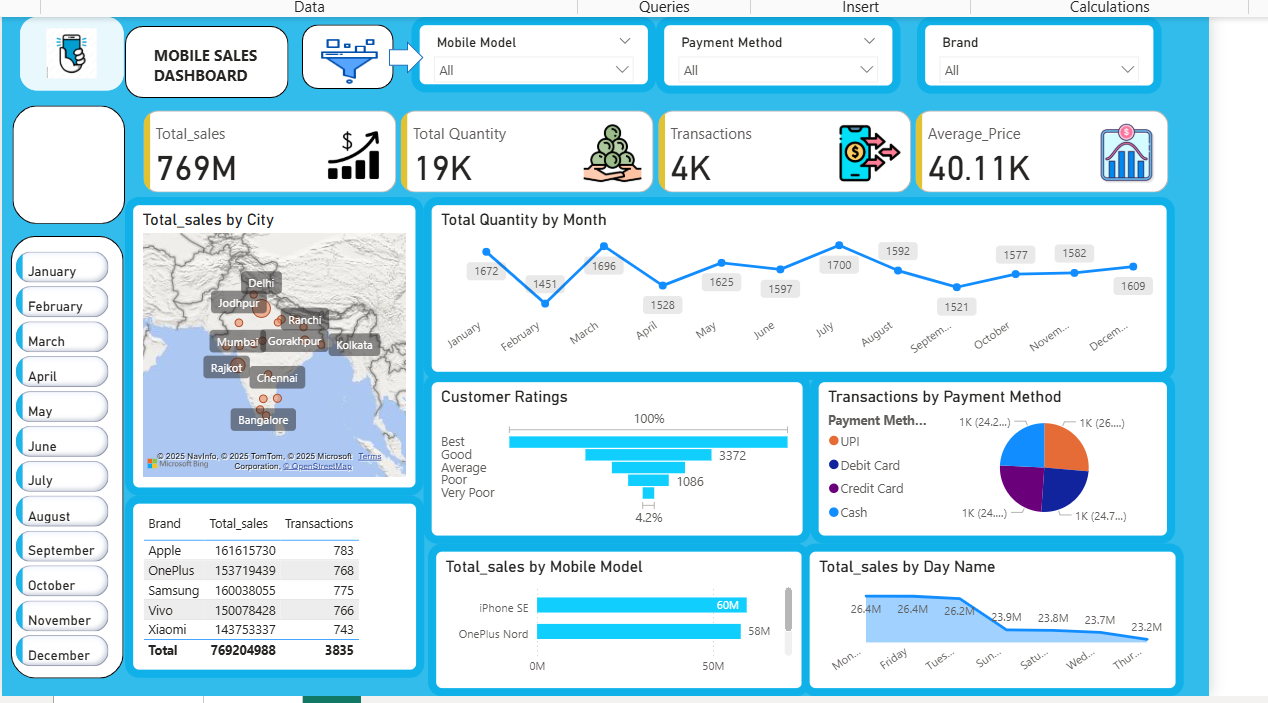

The dashboard page shown, as its layout file describes it:
{"tool":"powerbi","page":{"name":"Dashboard","canvas":[1280,720],"ordinal":0},"visuals":[{"type":"image","box":[19.1,0,109.8,77.9],"z":0},{"type":"shape","box":[11.1,93.8,119.3,125.7],"z":1000},{"type":"shape","box":[9.5,232.2,119.3,469.2],"z":2000},{"type":"advancedSlicerVisual","fields":{"Values":["Custom_calender.Date.Variation.Date Hierarchy.Month"]},"box":[9.5,243.4,108.2,458.1],"z":3000},{"type":"cardVisual","fields":{"Data":["Sales_data.Total_sales","Sales_data.Total Quantity","Sales_data.Transactions","Sales_data.Average_Price"]},"box":[144.7,93.8,1099.1,97],"z":4000},{"type":"slicer","fields":{"Values":["Sales_data.Mobile Model"]},"box":[434.2,0,259.3,80],"z":5000},{"type":"slicer","fields":{"Values":["Sales_data.Payment Method"]},"box":[693.5,0,259.3,81.1],"z":6000},{"type":"slicer","fields":{"Values":["Sales_data.Brand"]},"box":[970.3,0,259.3,81.1],"z":7000},{"type":"shape","box":[318.1,8,97,68.4],"z":8000},{"type":"image","box":[326.1,17.5,84.3,58.9],"z":9000},{"type":"shape","box":[410.4,25.4,36.6,35],"z":10000},{"type":"shape","box":[130.4,9.5,173.4,76.3],"z":11000},{"type":"textbox","box":[155.9,23.9,124.1,52.5],"z":12000},{"type":"map","fields":{"Category":["Sales_data.City"],"Size":["Sales_data.Total_sales"]},"box":[130.4,190.9,316.5,316.5],"z":13000},{"type":"lineChart","fields":{"Category":["Custom_calender.Date.Variation.Date Hierarchy.Month"],"Y":["Sales_data.Total Quantity"]},"box":[447,190.9,796.9,194.1],"z":14000},{"type":"funnel","title":"Customer Ratings","fields":{"Category":["Sales_data.Customer Rating Category"],"Y":["Sum(Sales_data.Customer Ratings)"]},"box":[447,378.6,410.4,179.7],"z":15000},{"type":"pieChart","fields":{"Y":["Sales_data.Transactions"],"Category":["Sales_data.Payment Method"]},"box":[857.3,378.6,386.5,179.7],"z":16000},{"type":"clusteredBarChart","fields":{"Y":["Sales_data.Total_sales"],"Category":["Sales_data.Mobile Model"]},"box":[451.7,558.3,405.6,162.2],"z":17000},{"type":"areaChart","fields":{"Y":["Sales_data.Total_sales"],"Category":["Custom_calender.Day Name"]},"box":[847.8,558.3,405.6,162.2],"z":18000},{"type":"tableEx","fields":{"Values":["Sales_data.Brand","Sales_data.Total_sales","Sales_data.Transactions"]},"box":[130,508,317,193],"z":19000}]}

Visuals, with their boxes on the page's 1280x720 design canvas (x1, y1, x2, y2). These are canvas units, not pixel positions in the 1268x703 screenshot, which may show the page scaled, cropped or inside an application window:
image: bbox=(19, 0, 129, 78)
shape: bbox=(11, 94, 130, 220)
shape: bbox=(10, 232, 129, 701)
advancedSlicerVisual - Custom_calender.Date.Variation.Date Hierarchy.Month: bbox=(10, 243, 118, 702)
cardVisual - Sales_data.Total_sales x Sales_data.Total Quantity: bbox=(145, 94, 1244, 191)
slicer - Sales_data.Mobile Model: bbox=(434, 0, 694, 80)
slicer - Sales_data.Payment Method: bbox=(694, 0, 953, 81)
slicer - Sales_data.Brand: bbox=(970, 0, 1230, 81)
shape: bbox=(318, 8, 415, 76)
image: bbox=(326, 18, 410, 76)
shape: bbox=(410, 25, 447, 60)
shape: bbox=(130, 10, 304, 86)
textbox: bbox=(156, 24, 280, 76)
map - Sales_data.City x Sales_data.Total_sales: bbox=(130, 191, 447, 507)
lineChart - Custom_calender.Date.Variation.Date Hierarchy.Month x Sales_data.Total Quantity: bbox=(447, 191, 1244, 385)
"Customer Ratings" funnel: bbox=(447, 379, 857, 558)
pieChart - Sales_data.Transactions x Sales_data.Payment Method: bbox=(857, 379, 1244, 558)
clusteredBarChart - Sales_data.Total_sales x Sales_data.Mobile Model: bbox=(452, 558, 857, 720)
areaChart - Sales_data.Total_sales x Custom_calender.Day Name: bbox=(848, 558, 1253, 720)
tableEx - Sales_data.Brand x Sales_data.Total_sales: bbox=(130, 508, 447, 701)
